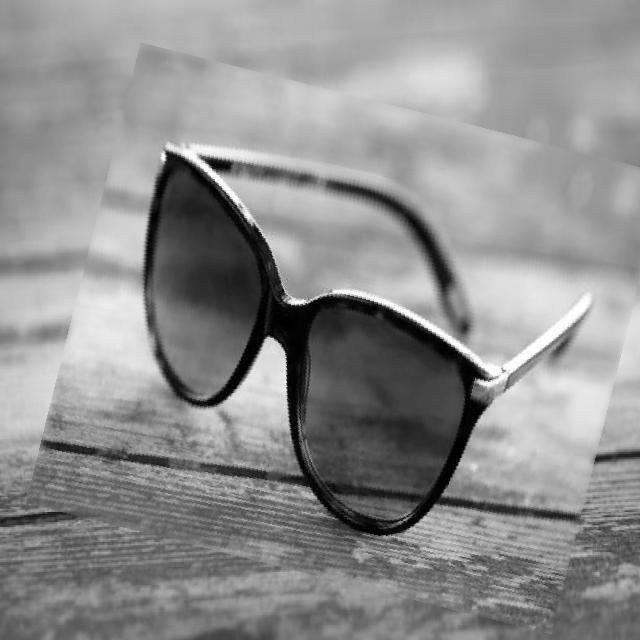glasses: (50, 71, 640, 605)
